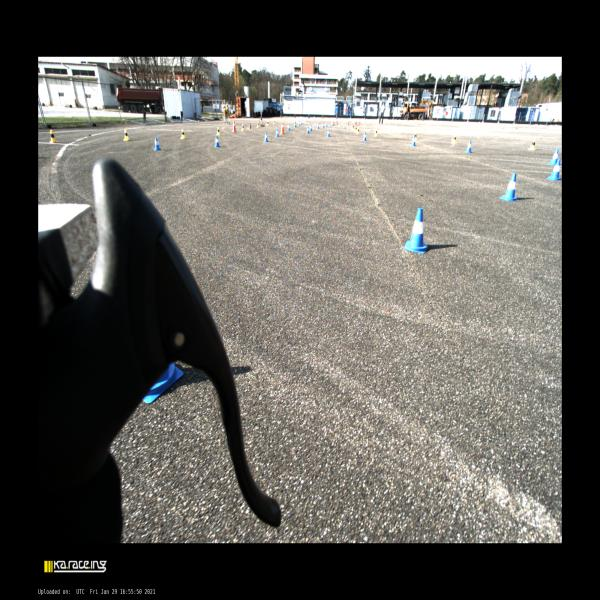blue_cone: (143, 364, 183, 404), (404, 208, 428, 253), (499, 173, 518, 201), (546, 159, 562, 181), (548, 149, 560, 165), (153, 136, 161, 150), (465, 140, 472, 153), (214, 135, 221, 147), (411, 135, 416, 146), (362, 132, 367, 141), (264, 132, 268, 142), (326, 129, 330, 137), (275, 128, 279, 136), (309, 124, 313, 131), (306, 126, 310, 133), (287, 124, 290, 131), (322, 122, 325, 128), (317, 123, 320, 129), (325, 122, 328, 127), (331, 121, 333, 127), (298, 120, 300, 126), (294, 122, 296, 127), (300, 120, 302, 125)
large_orange_cone: (232, 120, 237, 132), (280, 122, 284, 134)
orange_cone: (332, 121, 334, 126), (336, 120, 338, 125), (358, 121, 360, 126), (354, 121, 356, 126), (333, 121, 335, 125), (347, 121, 349, 125), (356, 122, 357, 126), (357, 122, 358, 126)
yellow_cone: (50, 129, 58, 143), (528, 138, 536, 151), (123, 129, 130, 141), (180, 129, 185, 139), (452, 134, 456, 144), (216, 126, 220, 136), (374, 129, 377, 137), (241, 124, 244, 131), (256, 121, 259, 128), (266, 119, 269, 126), (357, 127, 360, 134), (354, 126, 357, 132), (223, 104, 226, 110), (415, 132, 417, 140), (226, 103, 228, 110), (352, 124, 354, 130), (273, 120, 275, 124), (352, 122, 353, 126)
